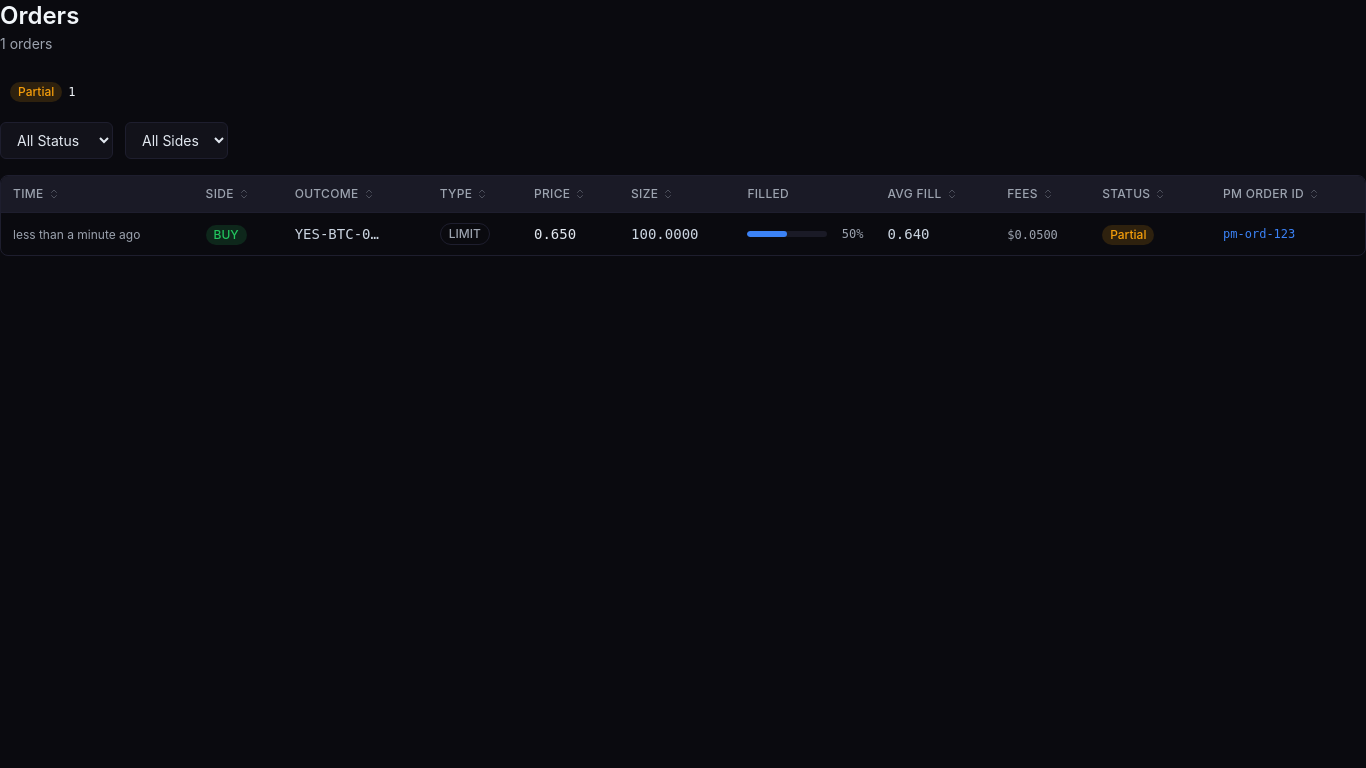
it: Orders › opens order drawer when a row is clicked
Click the text "YES-BTC-001" at x=340, y=234, box [295,224,385,244]
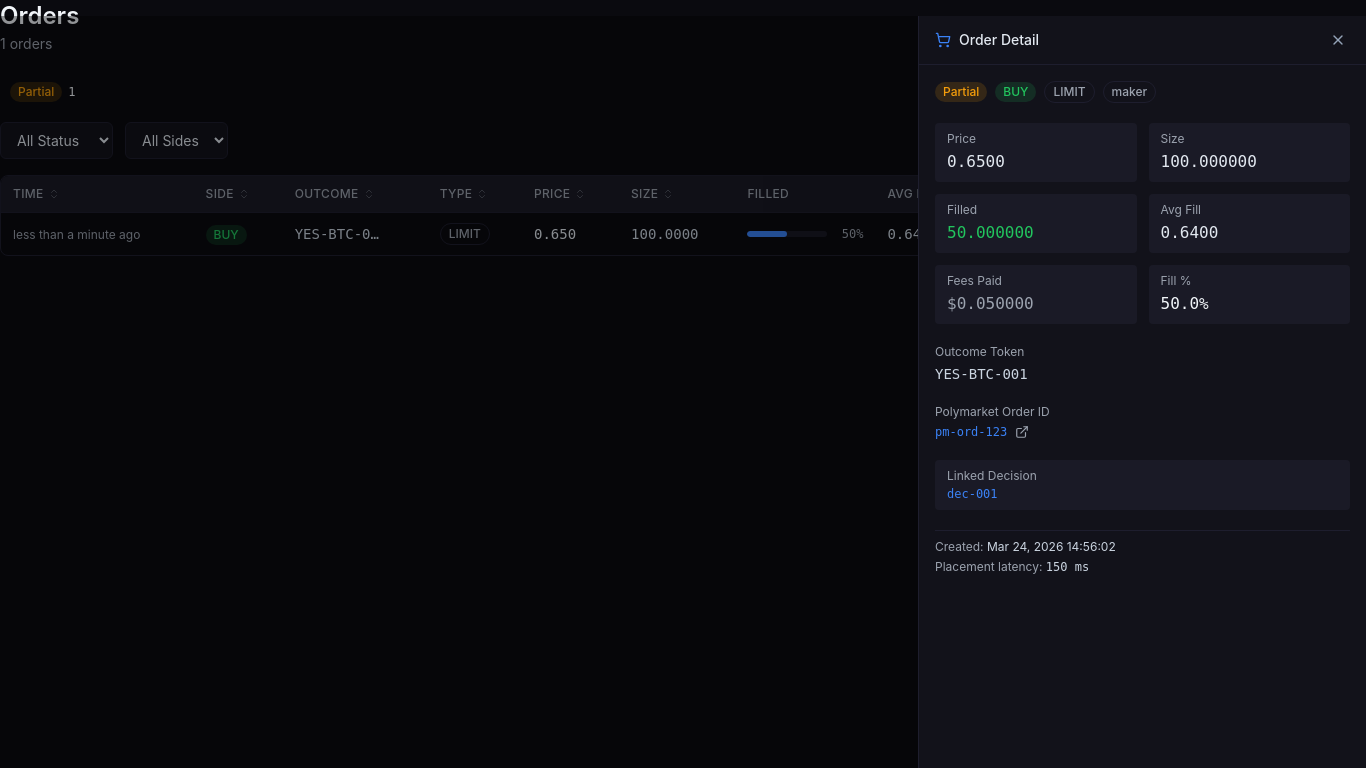
Expected: the text "Order Detail" is shown, [959,30,1039,50]
